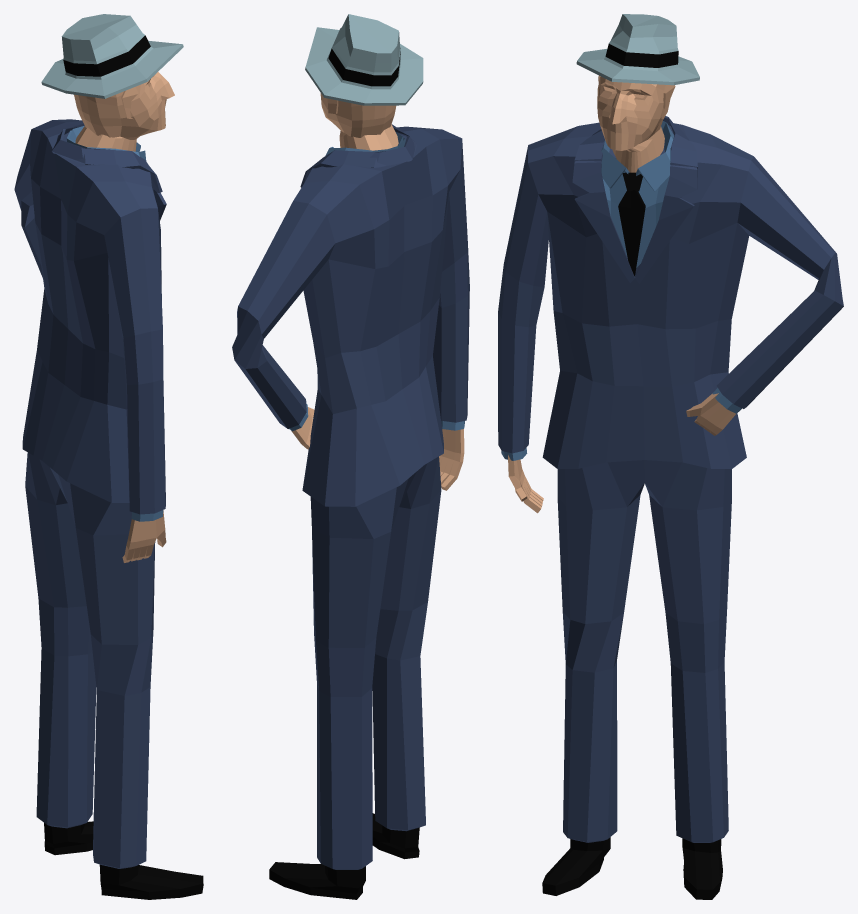
The model's file is posed2_man.glb.
3 renders of one model, left to right at view 1: azimuth 30°, elevation 25°; view 2: azimuth 150°, elevation 25°; view 3: azimuth 270°, elevation 25°, orthographic.
Visible parts, largest first — view 1: posed2_man_; view 2: posed2_man_; view 3: posed2_man_.
Part boxes in pixels (bbox=[...]): posed2_man_: bbox=[14, 14, 203, 899]; posed2_man_: bbox=[232, 14, 469, 899]; posed2_man_: bbox=[498, 14, 843, 899].
Size of the model in its own units: 0.5206 by 3.39 by 1.24.
